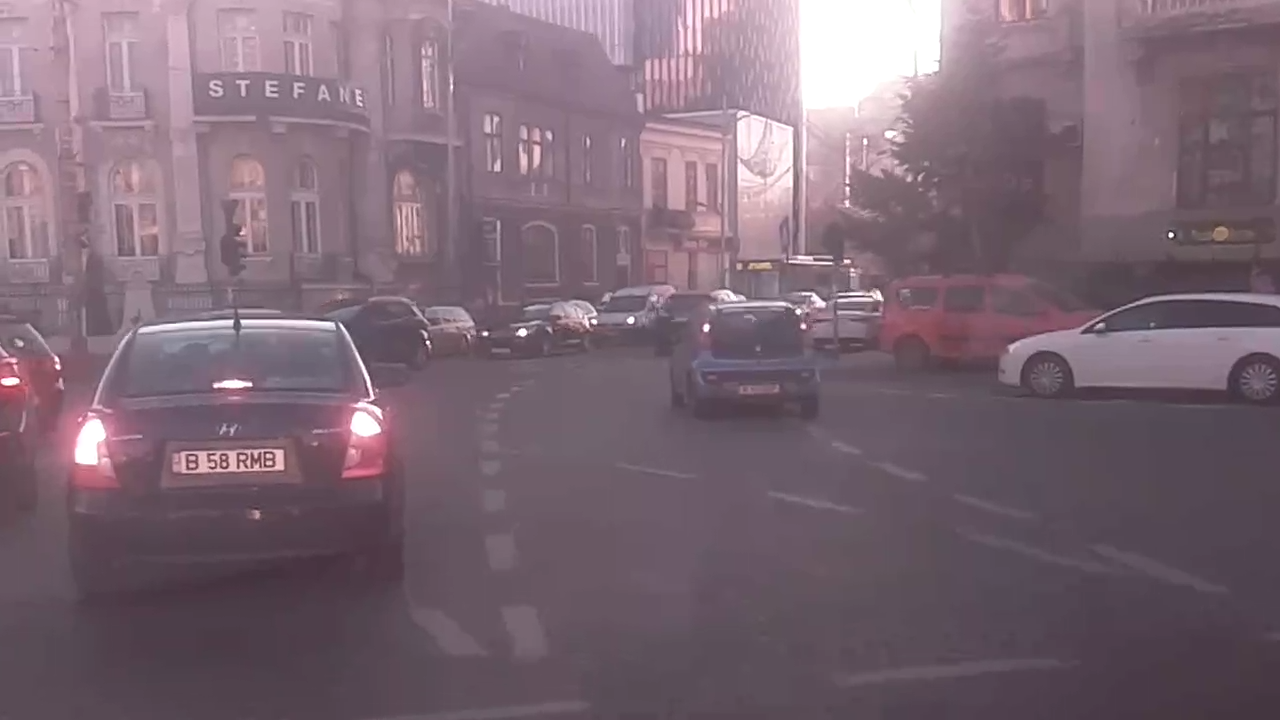license-plate: (166, 441, 291, 478)
